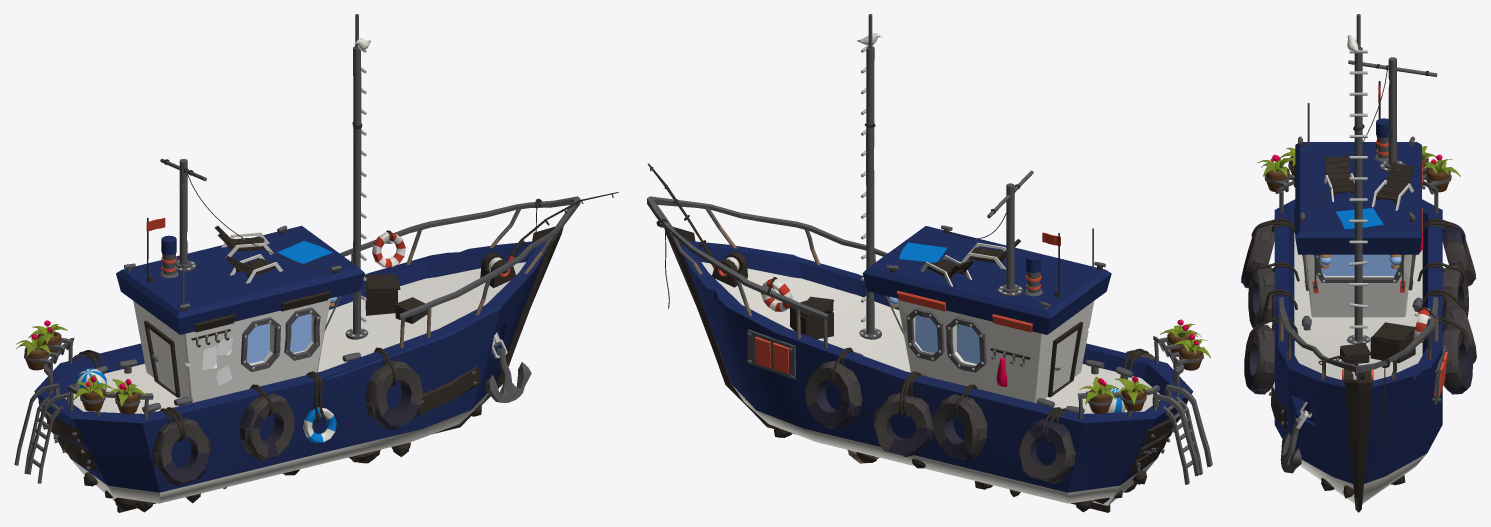
Rendered from boat.glb.
3 renders of one model, left to right at view 1: azimuth 30°, elevation 25°; view 2: azimuth 150°, elevation 25°; view 3: azimuth 270°, elevation 25°, orthographic. The views are drawn at different scales.
Parts seen in each view (by area): view 1: polySurface208, pCube126, polySurface203, pCylinder427, polySurface202, polySurface205, pCylinder480, pCube114, polySurface206, pCube124, pCube116, pCylinder460 (+13 smaller); view 2: polySurface208, pCube126, pCylinder427, polySurface203, polySurface202, polySurface205, pCylinder480, pCube115, polySurface206, pCylinder460, pCylinder513, polySurface188 (+12 smaller); view 3: polySurface208, pCube126, pCylinder427, polySurface202, polySurface203, polySurface206, pCylinder480, polySurface205, pCube146, pCube147, pCylinder513, pCylinder534 (+12 smaller).
Boxes of the visible parts, box(x1,y1,x2,y2) form: polySurface208: box(34, 241, 546, 503); pCube126: box(116, 225, 364, 334); polySurface203: box(133, 298, 330, 403); pCylinder427: box(72, 347, 422, 485); polySurface202: box(65, 262, 525, 413); polySurface205: box(340, 196, 580, 319); pCylinder480: box(353, 46, 361, 334); pCube114: box(241, 307, 320, 372); polySurface206: box(117, 226, 563, 512); pCube124: box(485, 348, 531, 402); pCube116: box(416, 366, 480, 415); pCylinder460: box(351, 202, 573, 347); polySurface208: box(680, 241, 1193, 505); pCube126: box(862, 226, 1111, 334); pCylinder427: box(805, 347, 1159, 483); polySurface203: box(897, 298, 1094, 403); polySurface202: box(701, 262, 1159, 413); polySurface205: box(647, 196, 887, 319); pCylinder480: box(866, 46, 874, 334); pCube115: box(906, 307, 986, 372); polySurface206: box(664, 227, 1110, 512); pCylinder460: box(654, 201, 875, 348); pCylinder513: box(1006, 183, 1014, 289); polySurface188: box(746, 329, 795, 379); polySurface208: box(1274, 199, 1442, 503); pCube126: box(1295, 142, 1421, 254); pCylinder427: box(1241, 218, 1476, 394); polySurface202: box(1294, 232, 1422, 380); polySurface203: box(1305, 254, 1412, 317); polySurface206: box(1344, 379, 1372, 512); pCylinder480: box(1354, 47, 1362, 340); polySurface205: box(1279, 297, 1437, 372); pCube146: box(1371, 162, 1414, 210); pCube147: box(1324, 155, 1354, 201); pCylinder513: box(1388, 57, 1396, 165); pCylinder534: box(1422, 154, 1460, 194).
Bounding box in the file's own units: 156 × 113 × 54.11.
